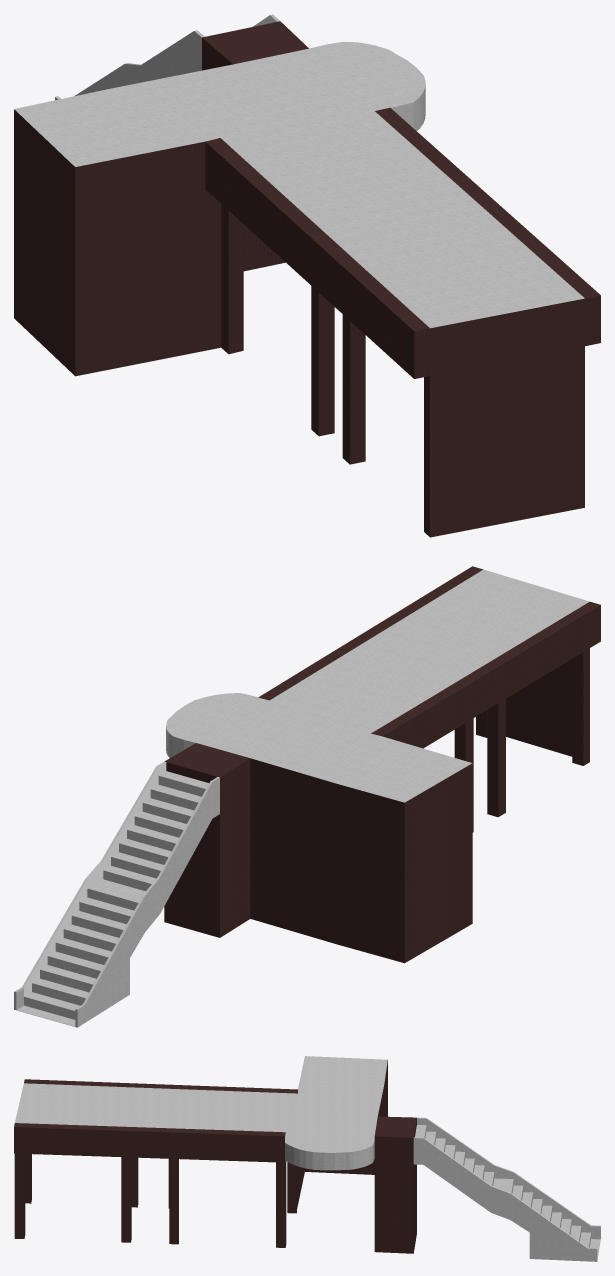
Rendered from zsdlstair.gltf.
3 renders of one model, top to bottom at view 1: azimuth 30°, elevation 25°; view 2: azimuth 150°, elevation 25°; view 3: azimuth 270°, elevation 25°, orthographic. The views are drawn at different scales.
Parts seen in each view (by area): view 1: root; view 2: root; view 3: root.
Boxes of the visible parts, x1,y1,x2,y2 form: root: (14, 14, 600, 537); root: (14, 566, 600, 1027); root: (14, 1056, 600, 1261).
Bounding box in the file's own units: 11.79 × 6.58 × 30.22.
4 materials, 3 textured.
